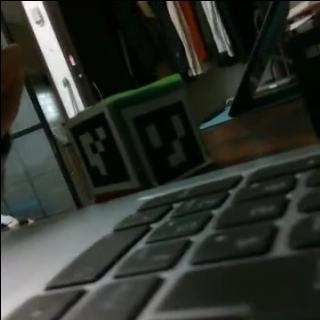armor: (118, 91, 208, 186), (62, 100, 135, 194)
robot: (60, 72, 210, 204)
